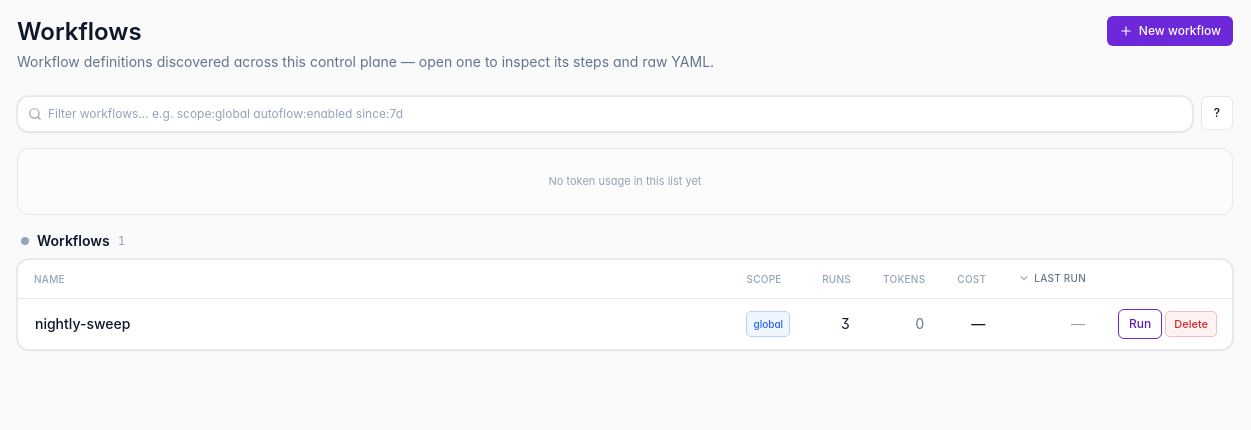
Test: Workflows — row Delete action › surfaces a delete failure via the page error mechanism
This screenshot has width=1251, height=430.
Expected: the text "nightly-sweep" is shown, [35,314,130,334]
Click the button with aria-label "Delete nightly-sweep". click: (1191, 324)
box: [1166,312,1216,336]
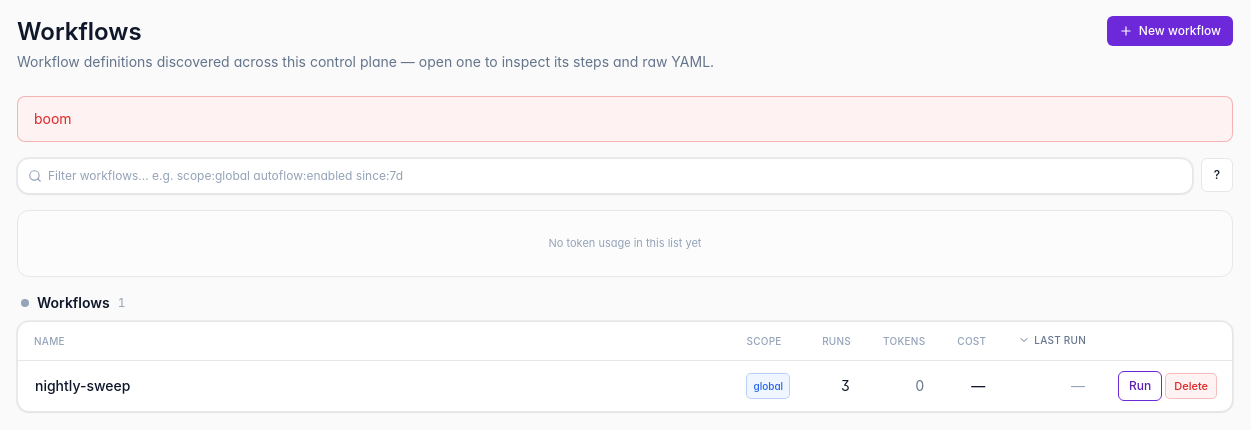
Now the message reads "boom", box [34,110,72,127]
